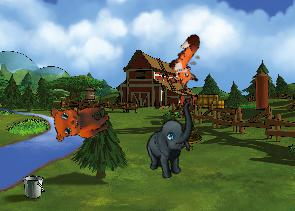bear: (45, 89, 114, 149)
elephant: (136, 100, 208, 182)
fox: (160, 31, 218, 93)
